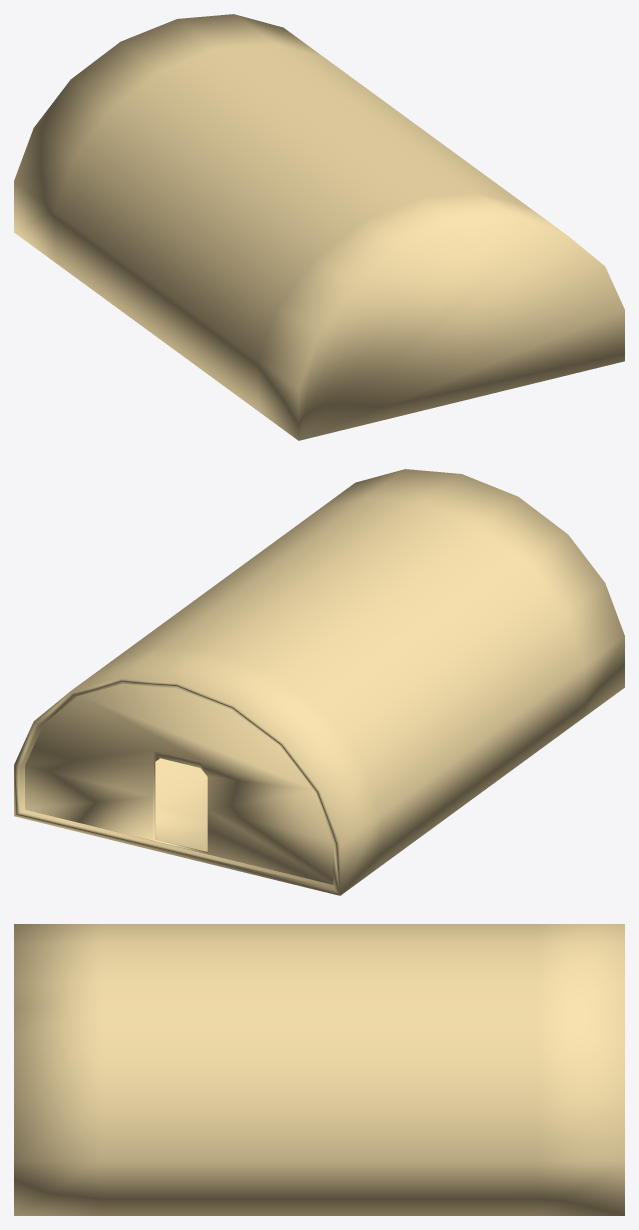
Rendered from TITLE SCREEN.fbx.
3 views of the same model, one above another, from view 1: azimuth 30°, elevation 25°; view 2: azimuth 150°, elevation 25°; view 3: azimuth 270°, elevation 25° (orthographic). The views are drawn at different scales.
Visible parts, largest first — view 1: Tent Joined; view 2: Tent Joined; view 3: Tent Joined.
Boxes of the visible parts, bbox=[...] form: Tent Joined: bbox=[14, 14, 624, 440]; Tent Joined: bbox=[14, 469, 624, 895]; Tent Joined: bbox=[14, 924, 624, 1215].
Size of the model in its own units: 871 by 443 by 1316.
